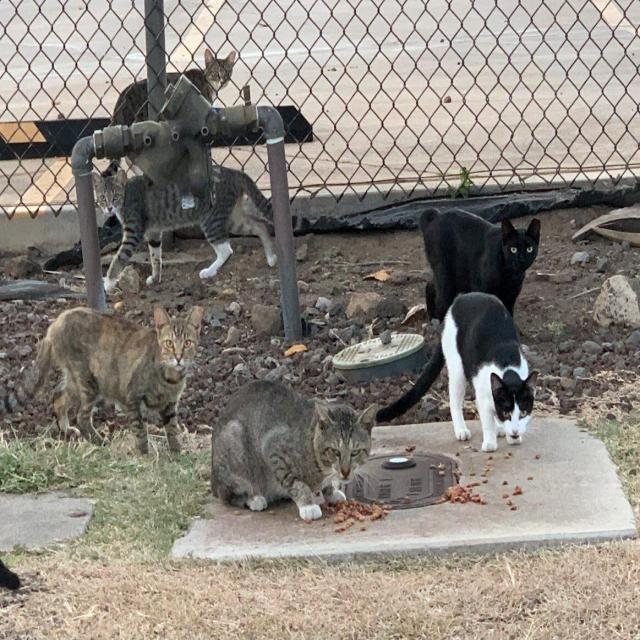cat: (24, 305, 202, 454), (376, 292, 536, 452), (92, 164, 276, 293), (212, 380, 378, 520), (420, 209, 540, 319), (184, 48, 236, 104), (111, 80, 149, 125), (166, 73, 179, 85)
